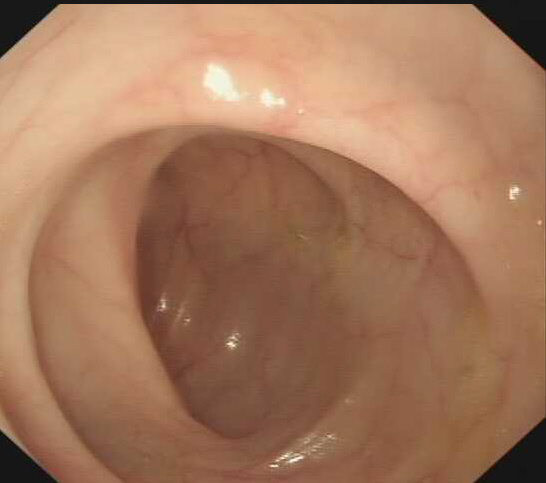adenoma: (163, 48, 297, 129)
